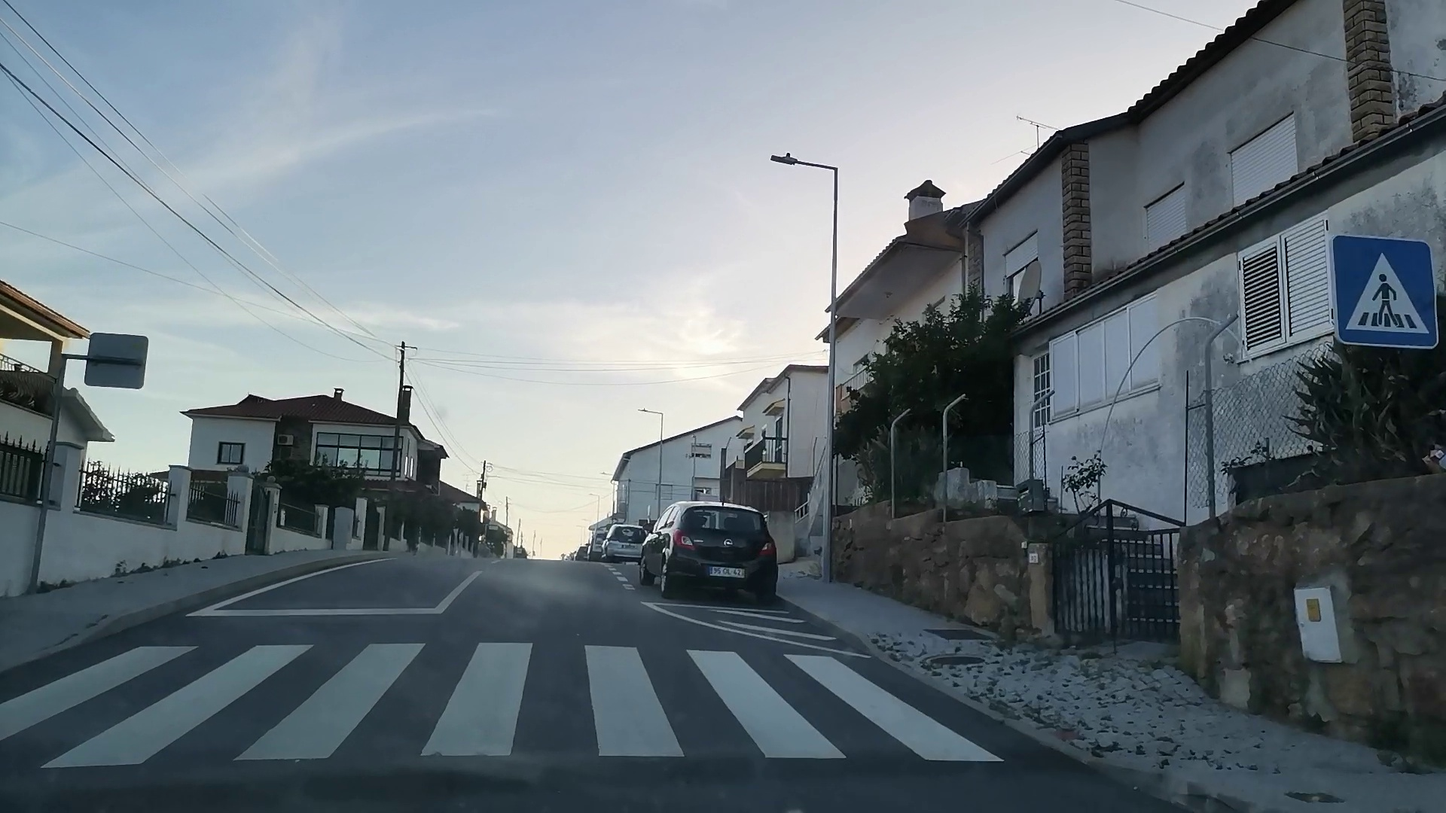Stairs: (0, 624, 1010, 763)
